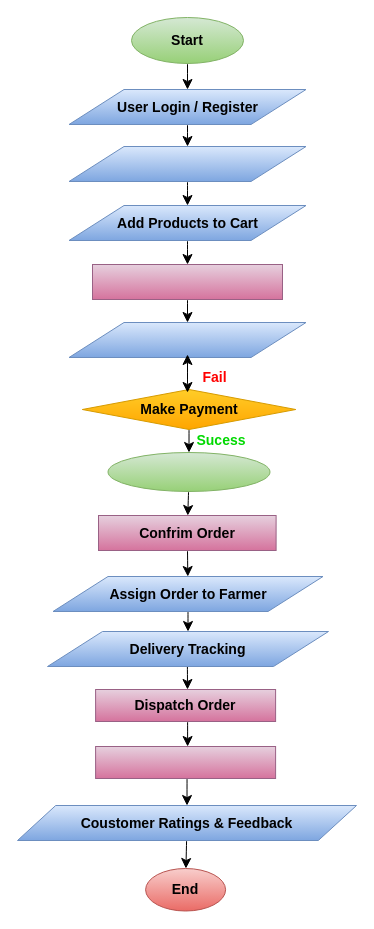
The diagram is 374 pixels wide and 929 high, and some of its shapes have lost their labels. Each missing label, with the centre of its shape:
"Browse Products" belongs at [187,164].
"Checkout" belongs at [187,282].
"Deliver Order" belongs at [185,762].
"Order Processing" belongs at [188,472].
"Proceed to Payment" belongs at [187,340].
